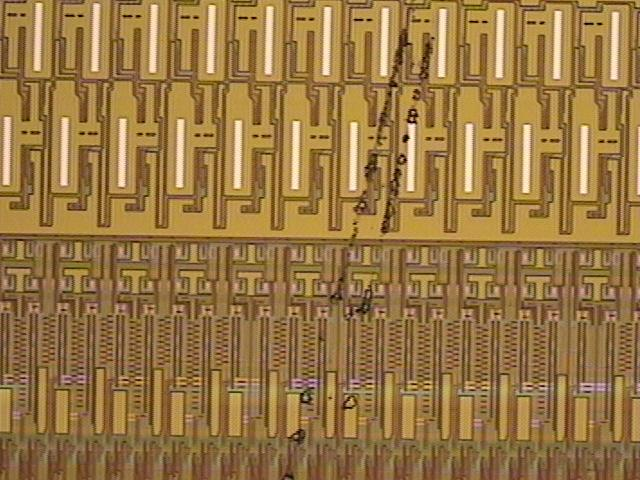SCRATCH: (281, 21, 443, 480)
